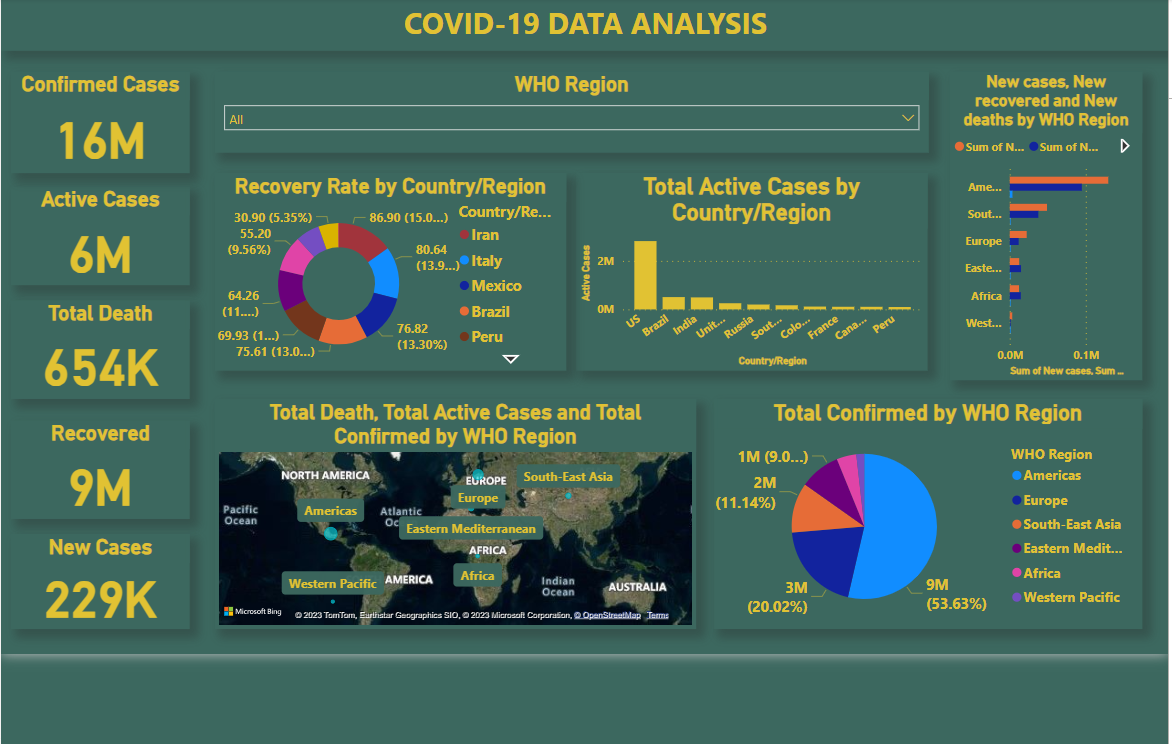

This screenshot's page, from the dashboard's own definition file:
{"tool":"powerbi","page":{"name":"Page 1","canvas":[1280,720],"ordinal":0},"visuals":[{"type":"card","title":"Active Cases","fields":{"Values":["country_wise_latest.Total Active"]},"box":[11,207,196.1,108.3],"z":0},{"type":"card","title":"Confirmed Cases","fields":{"Values":["country_wise_latest.Total Confirmed"]},"box":[11,80.9,196.1,111.1],"z":1000},{"type":"card","title":"Total Death","fields":{"Values":["country_wise_latest.Total Death"]},"box":[11,331.8,196.1,108.3],"z":2000},{"type":"card","title":"Recovered","fields":{"Values":["country_wise_latest.Total Recovered"]},"box":[11,463.4,196.1,108.3],"z":3000},{"type":"card","title":"New Cases","fields":{"Values":["Sum(country_wise_latest.New cases)"]},"box":[11,588.2,196.1,104.2],"z":4000},{"type":"columnChart","fields":{"Category":["country_wise_latest.Country/Region"],"Y":["country_wise_latest.Total Active"]},"box":[630.7,191.9,385.3,216.6],"z":5000},{"type":"pieChart","fields":{"Category":["country_wise_latest.WHO Region"],"Y":["country_wise_latest.Total Confirmed"]},"box":[781.5,440.1,470.3,252.3],"z":6000},{"type":"donutChart","fields":{"Category":["country_wise_latest.Country/Region"],"Y":["country_wise_latest.Recovery Rate"]},"box":[234.4,191.9,385.3,216.6],"z":7000},{"type":"map","fields":{"Category":["country_wise_latest.WHO Region"],"Size":["country_wise_latest.Total Death"]},"box":[234.4,440.1,527.9,252.3],"z":8000},{"type":"slicer","title":"WHO Region","fields":{"Values":["country_wise_latest.WHO Region"]},"box":[234.4,80.9,782.9,89.1],"z":9000},{"type":"clusteredBarChart","title":"New cases, New recovered and  New deaths by WHO Region","fields":{"Category":["country_wise_latest.WHO Region"],"Y":["Sum(country_wise_latest.New cases)","Sum(country_wise_latest.New recovered)","Sum(country_wise_latest.New deaths)"]},"box":[1040.6,80.9,211.1,338.6],"z":10000},{"type":"textbox","box":[0,0,1280.6,57.6],"z":11000}]}

Visuals, with their boxes on the page's 1280x720 design canvas (x1, y1, x2, y2). These are canvas units, not pixel positions in the 1172x744 screenshot, which may show the page scaled, cropped or inside an application window:
"Active Cases" card: 11,207,207,315
"Confirmed Cases" card: 11,81,207,192
"Total Death" card: 11,332,207,440
"Recovered" card: 11,463,207,572
"New Cases" card: 11,588,207,692
columnChart - country_wise_latest.Country/Region x country_wise_latest.Total Active: 631,192,1016,408
pieChart - country_wise_latest.WHO Region x country_wise_latest.Total Confirmed: 782,440,1252,692
donutChart - country_wise_latest.Country/Region x country_wise_latest.Recovery Rate: 234,192,620,408
map - country_wise_latest.WHO Region x country_wise_latest.Total Death: 234,440,762,692
"WHO Region" slicer: 234,81,1017,170
"New cases, New recovered and  New deaths by WHO Region" clusteredBarChart: 1041,81,1252,420
textbox: 0,0,1281,58
